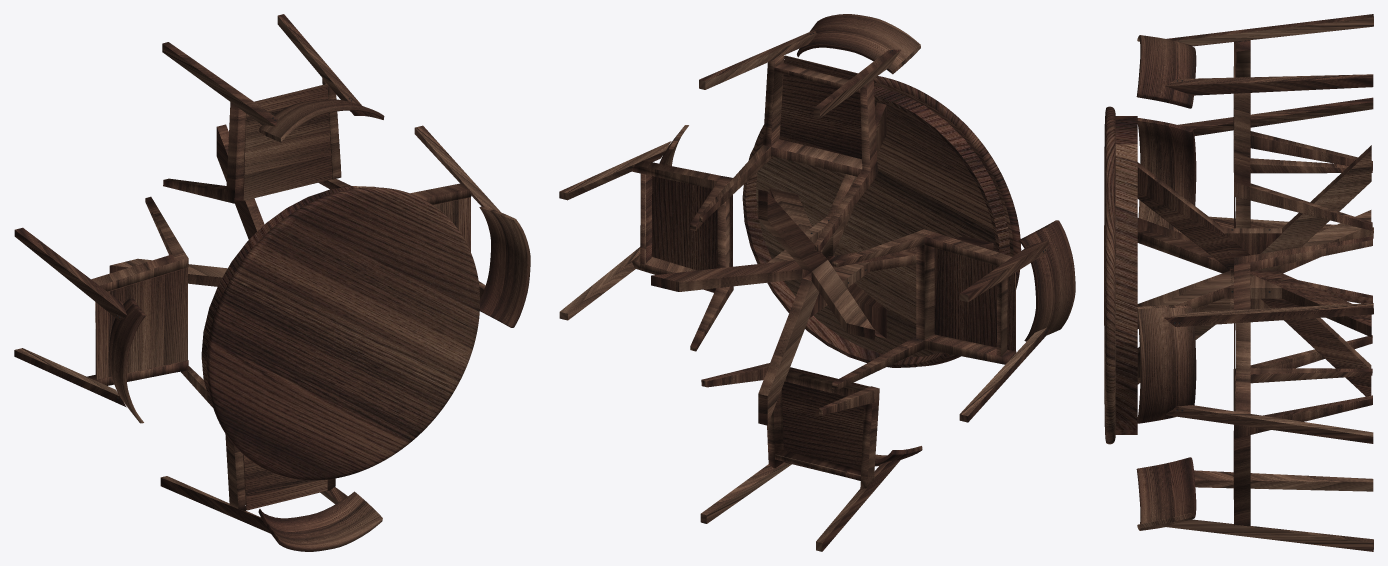
File: 4seated_dinning_table.obj
3 renders of one model, left to right at view 1: azimuth 30°, elevation 25°; view 2: azimuth 150°, elevation 25°; view 3: azimuth 270°, elevation 25°, orthographic. The views are drawn at different scales.
Visible parts, largest first — view 1: Cylinder, Cube.011_Cube.000, Cube.030_Cube.052, Sphere.000, Sphere.002, Cube.020_Cube.004, Cube.027_Cube.049, Cube.021_Cube.038, Sphere.003_Sphere.004, Cylinder.001, Cube.028_Cube.050, Sphere.001 (+12 smaller); view 2: Cylinder, Cylinder.001, Cube.030_Cube.052, Cube.021_Cube.038, Cube.011_Cube.000, Cube.018_Cube.037, Cube.019_Cube.003, Cube.027_Cube.049, Sphere.003_Sphere.004, Cube.024_Cube.041, Sphere.001, Cube.014_Cube.034 (+20 smaller); view 3: Cylinder.001, Sphere.000, Sphere.003_Sphere.004, Cylinder, Cube.019_Cube.003, Cube.004_Cube.030, Sphere.002, Sphere.001, Cube.009_Cube.011, Cube.016_Cube.002, Cube.025_Cube.047, Cube.014_Cube.034 (+20 smaller).
Part boxes in pixels (x1,y1,x2,y2): Cylinder: (206,187,480,480); Cube.011_Cube.000: (243,84,332,200); Cube.030_Cube.052: (95,267,187,379); Sphere.000: (479,206,530,327); Sphere.002: (258,491,382,551); Cube.020_Cube.004: (163,102,245,203); Cube.027_Cube.049: (91,196,188,328); Cube.021_Cube.038: (243,455,327,510); Sphere.003_Sphere.004: (108,298,146,423); Cylinder.001: (201,186,375,406); Cube.028_Cube.050: (14,227,127,321); Sphere.001: (259,99,384,142); Cylinder: (754,76,1021,366); Cylinder.001: (742,86,1010,367); Cube.030_Cube.052: (934,248,1015,351); Cube.021_Cube.038: (782,367,869,472); Cube.011_Cube.000: (779,55,861,159); Cube.018_Cube.037: (640,174,732,270); Cube.019_Cube.003: (699,55,862,222); Cube.027_Cube.049: (832,229,1012,356); Sphere.003_Sphere.004: (1018,220,1075,341); Cube.024_Cube.041: (775,370,879,489); Sphere.001: (797,14,920,74); Cube.014_Cube.034: (632,173,733,351); Cylinder.001: (1115,116,1137,434); Sphere.000: (1136,305,1196,423); Sphere.003_Sphere.004: (1137,118,1196,233); Cylinder: (1104,106,1115,444); Cube.019_Cube.003: (1233,50,1372,230); Cube.004_Cube.030: (1137,162,1250,270); Sphere.002: (1136,457,1196,530); Sphere.001: (1136,35,1196,108); Cube.009_Cube.011: (1255,145,1371,270); Cube.016_Cube.002: (1165,74,1373,95); Cube.025_Cube.047: (1234,395,1372,526); Cube.014_Cube.034: (1234,322,1372,413).
Size of the model in its own units: 65 by 67.2 by 34.58.
3 materials, 3 textured.
